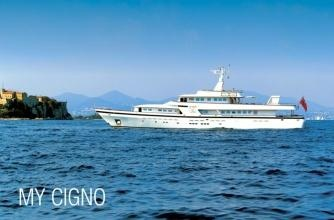yacht: (91, 76, 307, 129)
